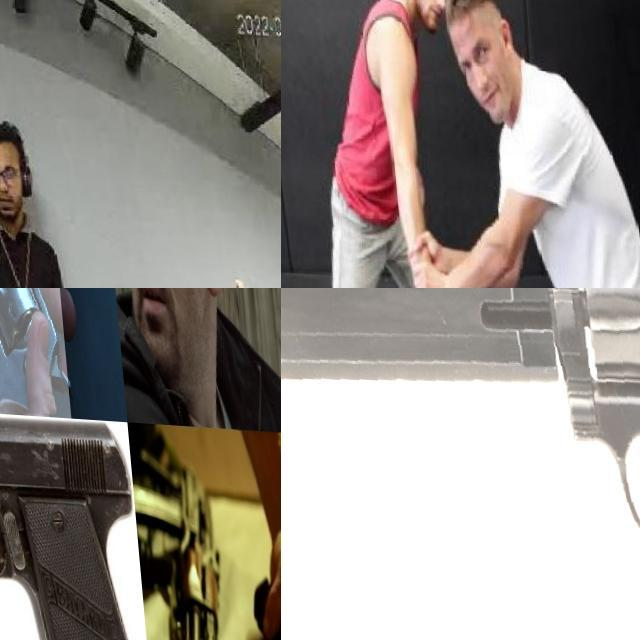gun-knife-thesis - v11 Yolov5 augmented: (281, 288, 640, 640), (0, 402, 169, 640), (137, 466, 213, 640), (0, 288, 72, 445)
